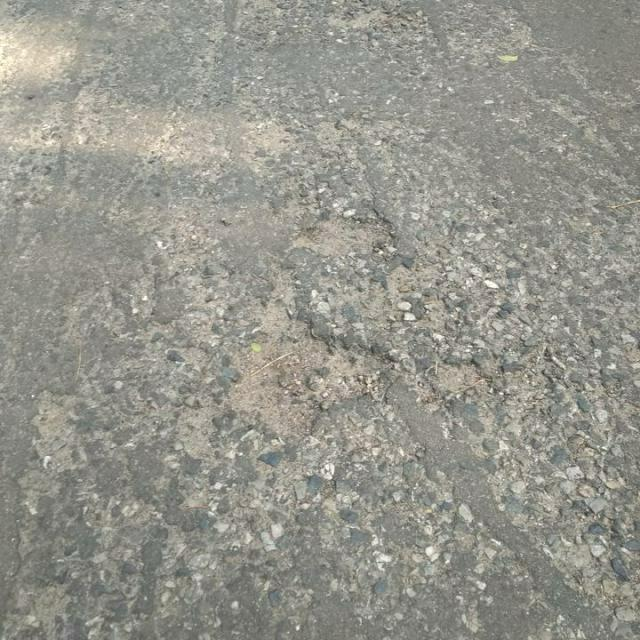Pothole: (226, 297, 400, 438), (292, 210, 399, 263), (432, 356, 496, 396)
